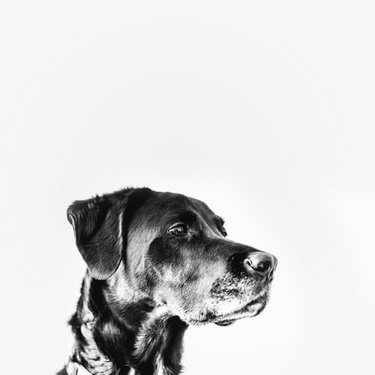dog: (50, 179, 282, 369)
